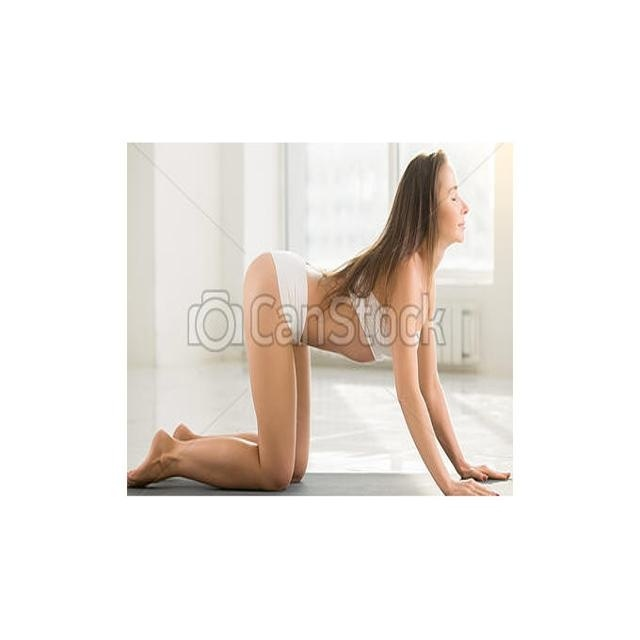Cow_Pose: (126, 151, 510, 496)
